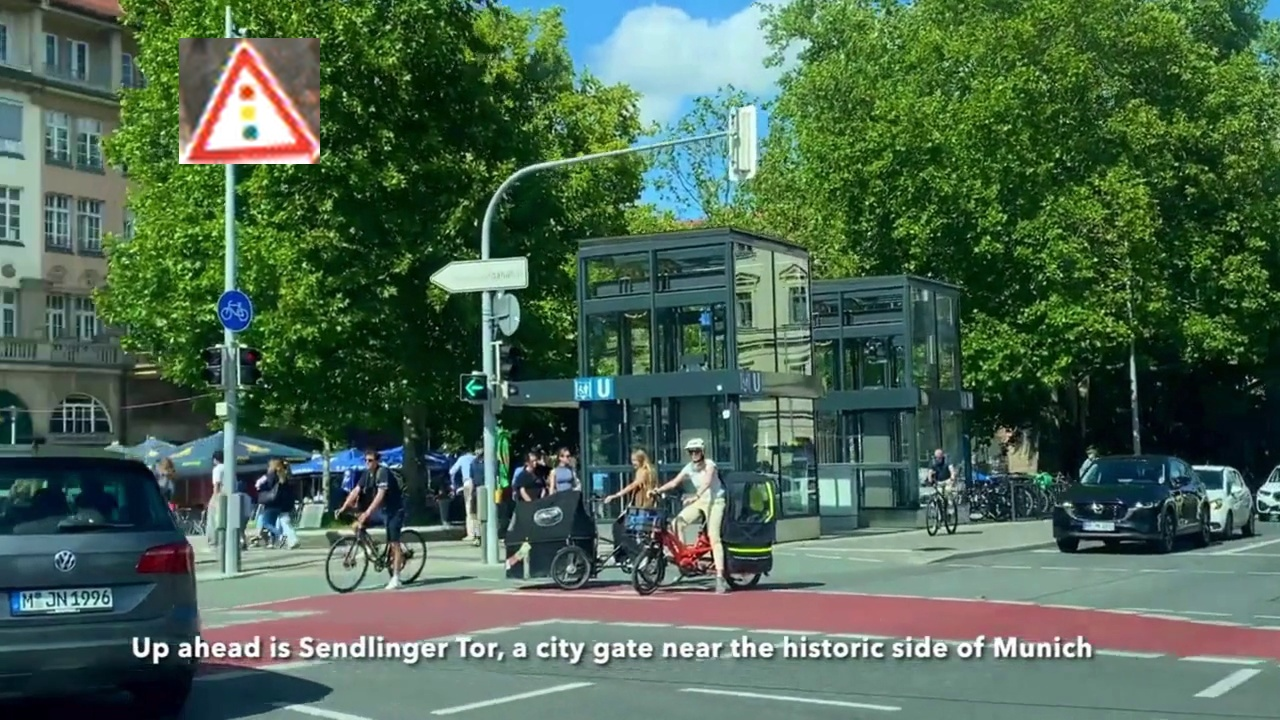Signals: (179, 38, 320, 164)
